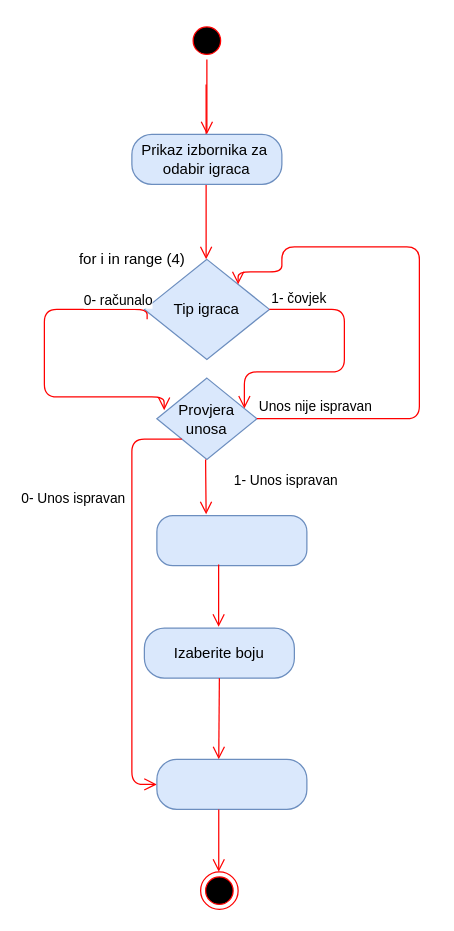
Some shapes in this 454 by 931 pixel diagram are drawn without their labels. The centre of each missing label's shape, as x and y in pixels:
"Info o igracima" belongs at pixel 231 783.
"Unesite ime za igrača" belongs at pixel 231 540.
